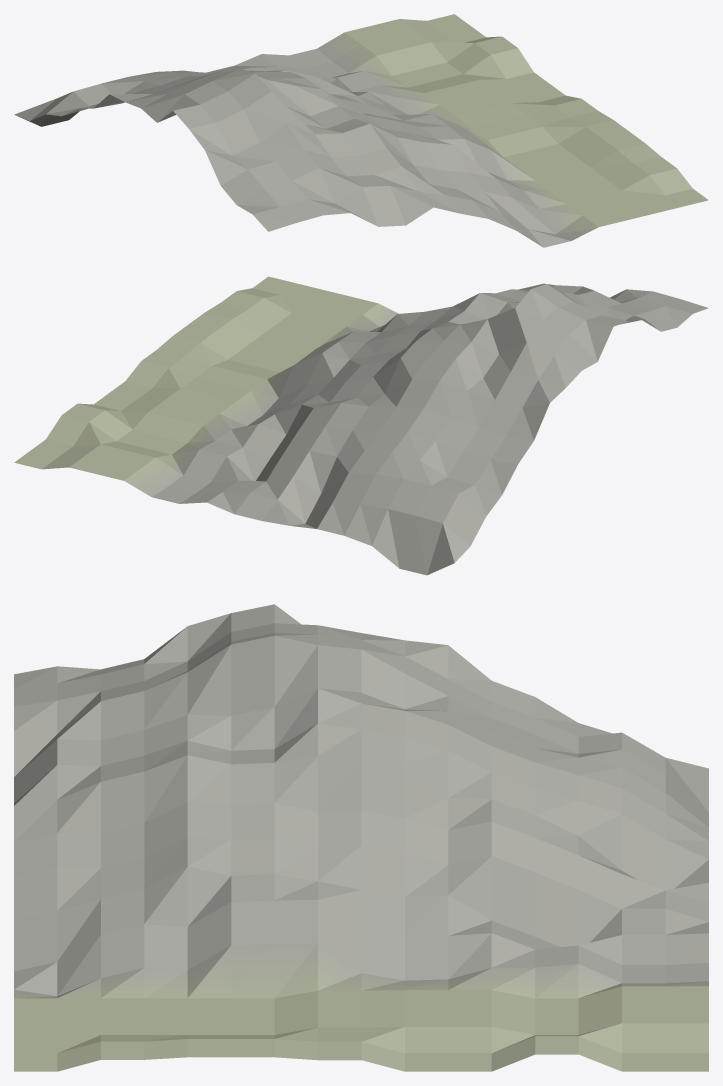
3 views of the same model, one above another, from view 1: azimuth 30°, elevation 25°; view 2: azimuth 150°, elevation 25°; view 3: azimuth 270°, elevation 25° (orthographic). The views are drawn at different scales.
Size of the model in its own units: 32 by 10.86 by 32.
